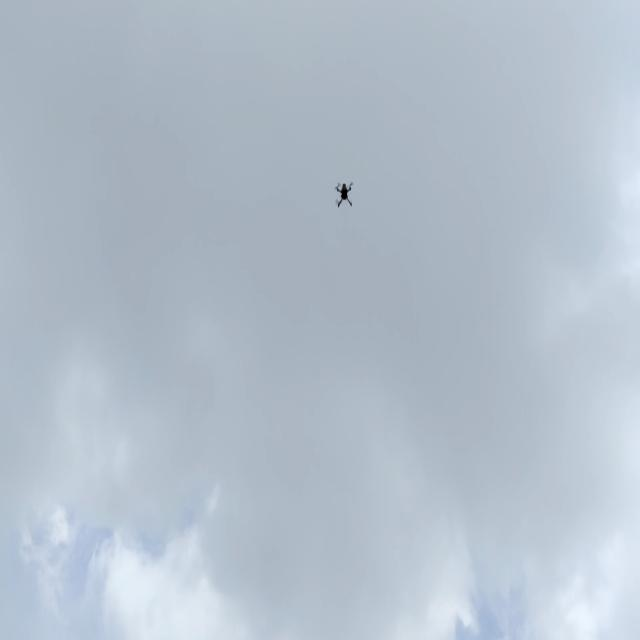drone: (332, 178, 356, 210)
